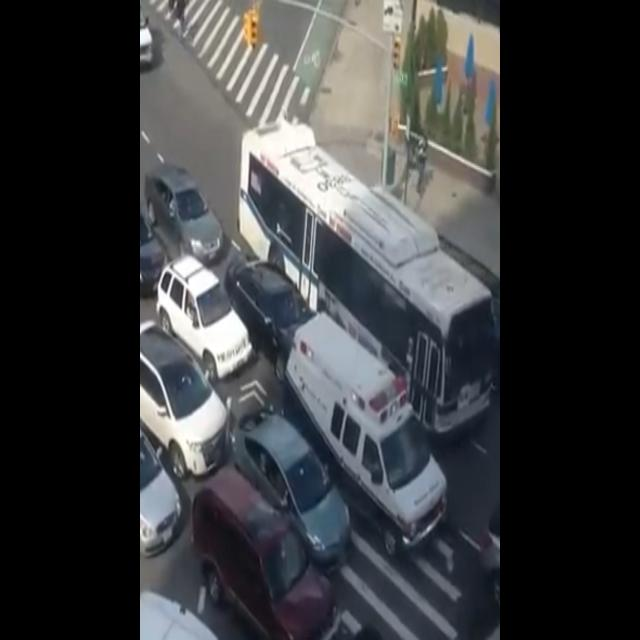Ambulance: (285, 307, 452, 561)
